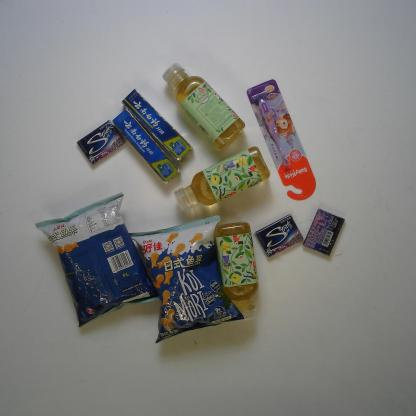Drink: (162, 61, 245, 151), (172, 146, 271, 212), (214, 222, 258, 321)
Gum: (77, 119, 125, 167), (255, 214, 303, 259), (303, 208, 345, 257)
Personal Hygiene: (246, 79, 317, 200), (121, 87, 193, 162), (112, 108, 180, 184)
Puffed Food: (35, 193, 160, 329), (128, 215, 244, 345)
